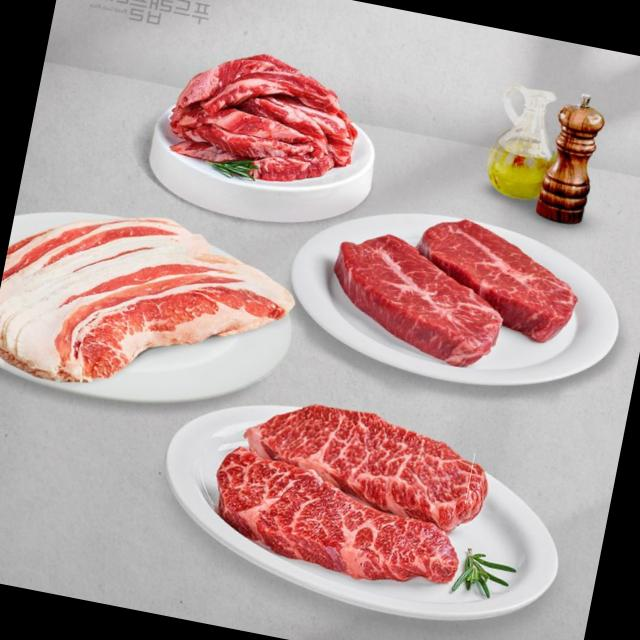beef: (219, 476, 456, 570), (254, 412, 476, 504)
